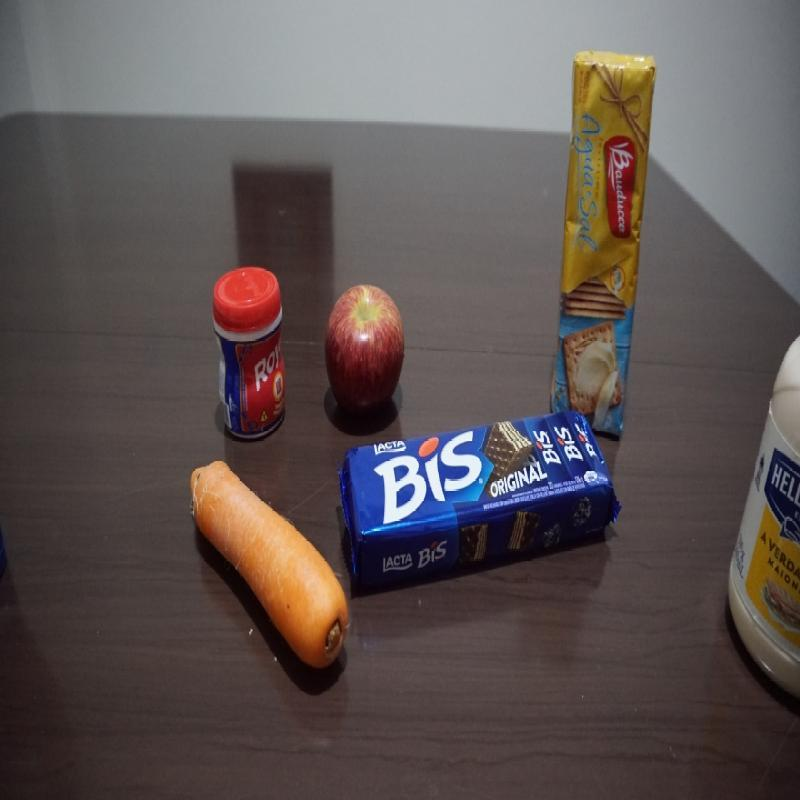Apple: (322, 280, 406, 416)
Carrot: (190, 460, 350, 679)
Cracker: (548, 40, 659, 444)
Mayonnaise: (725, 323, 800, 714)
Yeast: (212, 262, 287, 443)
